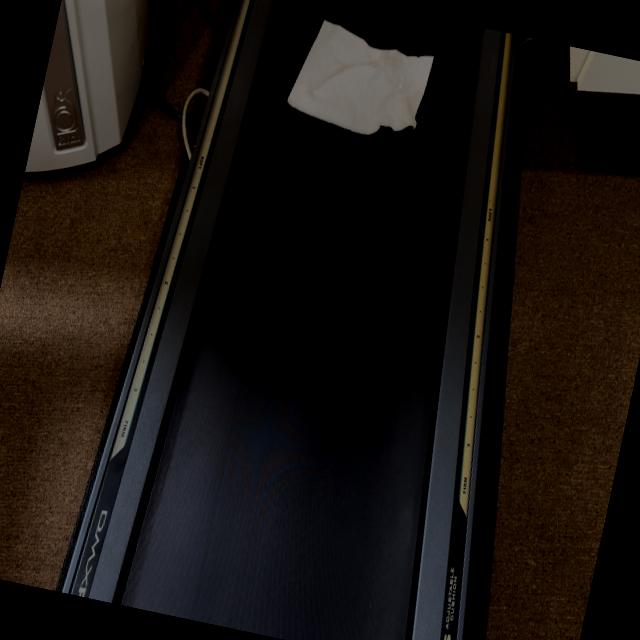Recycle: (287, 5, 461, 170)
